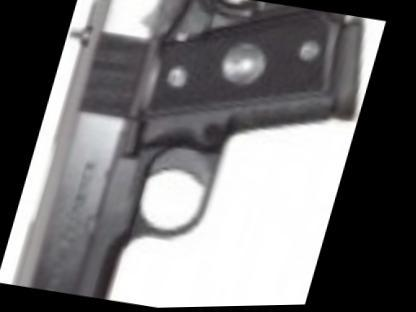pistol: (0, 0, 382, 311)
